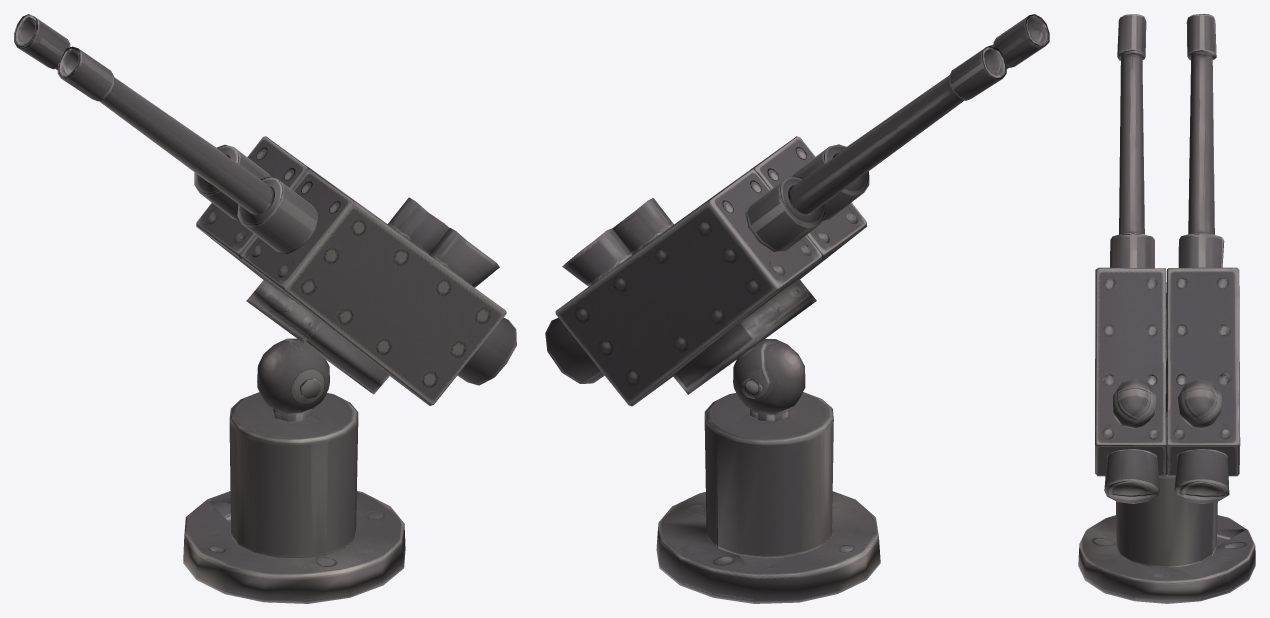
Rendered from meshy-b-1000.glb.
The picture shows the model from 3 angles, left to right: view 1: azimuth 30°, elevation 25°; view 2: azimuth 150°, elevation 25°; view 3: azimuth 270°, elevation 25°; orthographic projection. The views are drawn at different scales.
Bounding box in the file's own units: 0.81 × 1 × 0.3494.
Materials: 1 (1 with a texture image).
